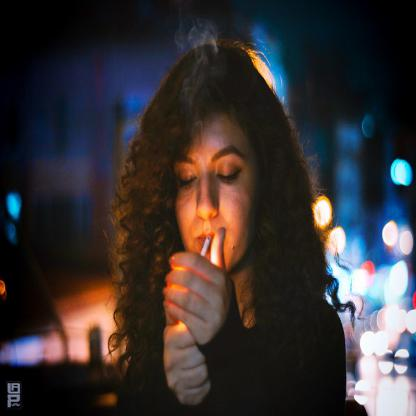smoking: (197, 236, 211, 266)
